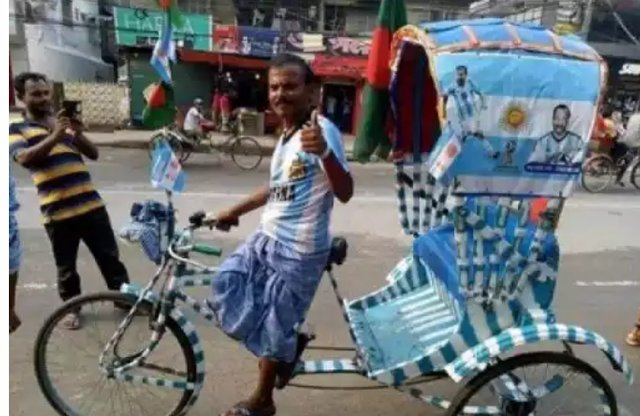Rickshaw: (49, 26, 614, 412)
